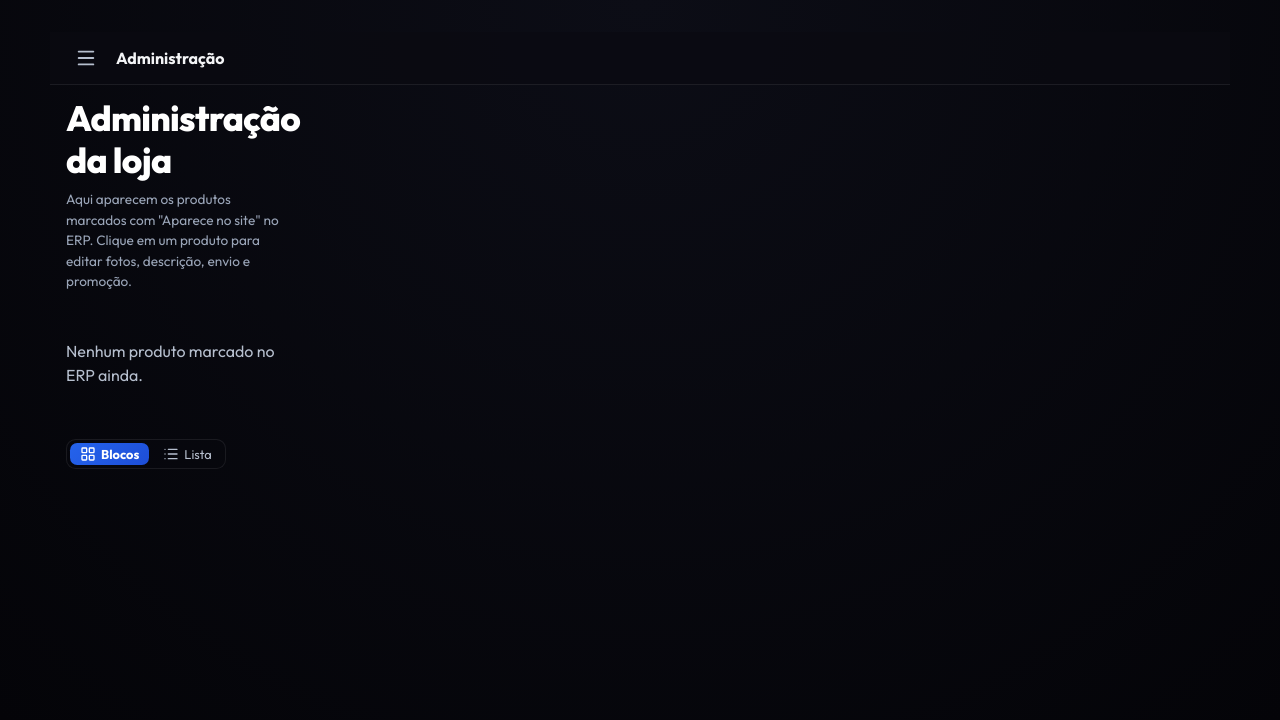
Test: AdminLayout e AdminMenu › UT-347 o item Tema traz o ThemeToggle
The width and height of the screenshot is (1280, 720).
Expected: the heading "Administração da loja" is shown, [66, 97, 286, 182]
Click the button named "Abrir menu".
click(86, 58)  # box [66, 38, 106, 78]
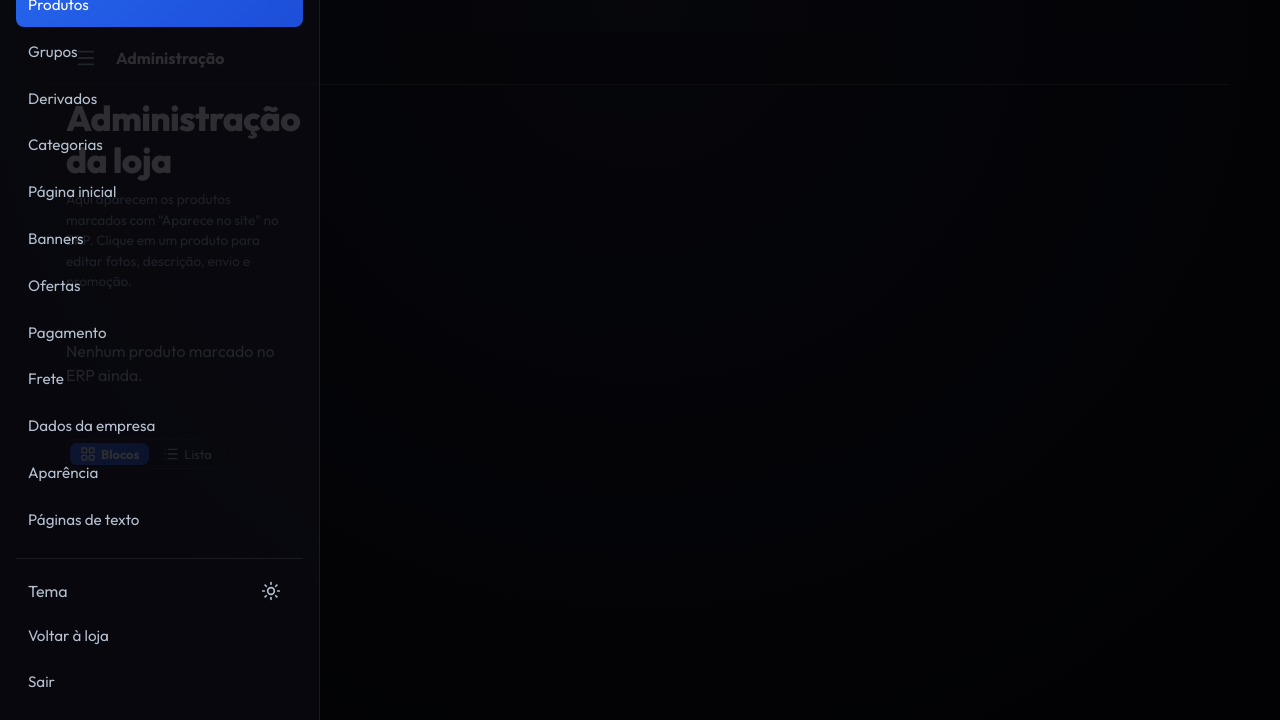
Expected: the button named "Ativar tema" is shown, [251, 571, 291, 611]
